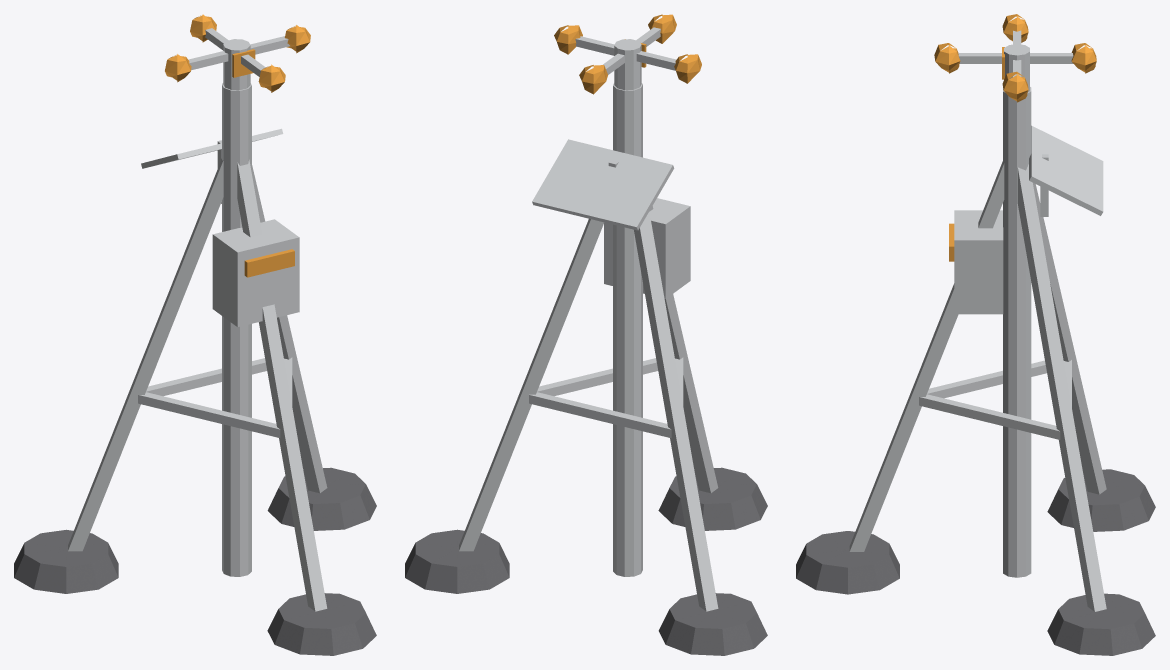
File: volcano-and-lava-fields-volcano-and-lava-fields-tripod-dbe448b9__37483.glb
The picture shows the model from 3 angles, left to right: view 1: azimuth 30°, elevation 25°; view 2: azimuth 150°, elevation 25°; view 3: azimuth 270°, elevation 25°; orthographic projection.
Visible parts, largest first — view 1: volcano-and-lava-fields-tripod-sensor-mast, sensor-head/hiVis, sensor-head/steel; view 2: volcano-and-lava-fields-tripod-sensor-mast, sensor-head/steel, sensor-head/hiVis; view 3: volcano-and-lava-fields-tripod-sensor-mast, sensor-head/hiVis, sensor-head/steel.
Part boxes in pixels (x1=…): volcano-and-lava-fields-tripod-sensor-mast: x1=14, y1=83, x2=376, y2=655; sensor-head/hiVis: x1=165, y1=14, x2=310, y2=92; sensor-head/steel: x1=188, y1=28, x2=289, y2=90; volcano-and-lava-fields-tripod-sensor-mast: x1=405, y1=83, x2=767, y2=655; sensor-head/steel: x1=575, y1=27, x2=680, y2=90; sensor-head/hiVis: x1=554, y1=14, x2=701, y2=94; volcano-and-lava-fields-tripod-sensor-mast: x1=796, y1=87, x2=1155, y2=655; sensor-head/hiVis: x1=934, y1=14, x2=1096, y2=102; sensor-head/steel: x1=958, y1=30, x2=1073, y2=91.
Size of the model in its own units: 1.47 by 2.14 by 1.32.
3 materials, 1 textured.
